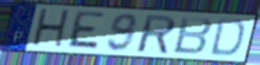9: (105, 12, 140, 53)
B: (171, 15, 215, 56)
D: (208, 17, 247, 58)
E: (64, 10, 106, 52)
H: (29, 7, 72, 51)
R: (137, 13, 178, 55)
